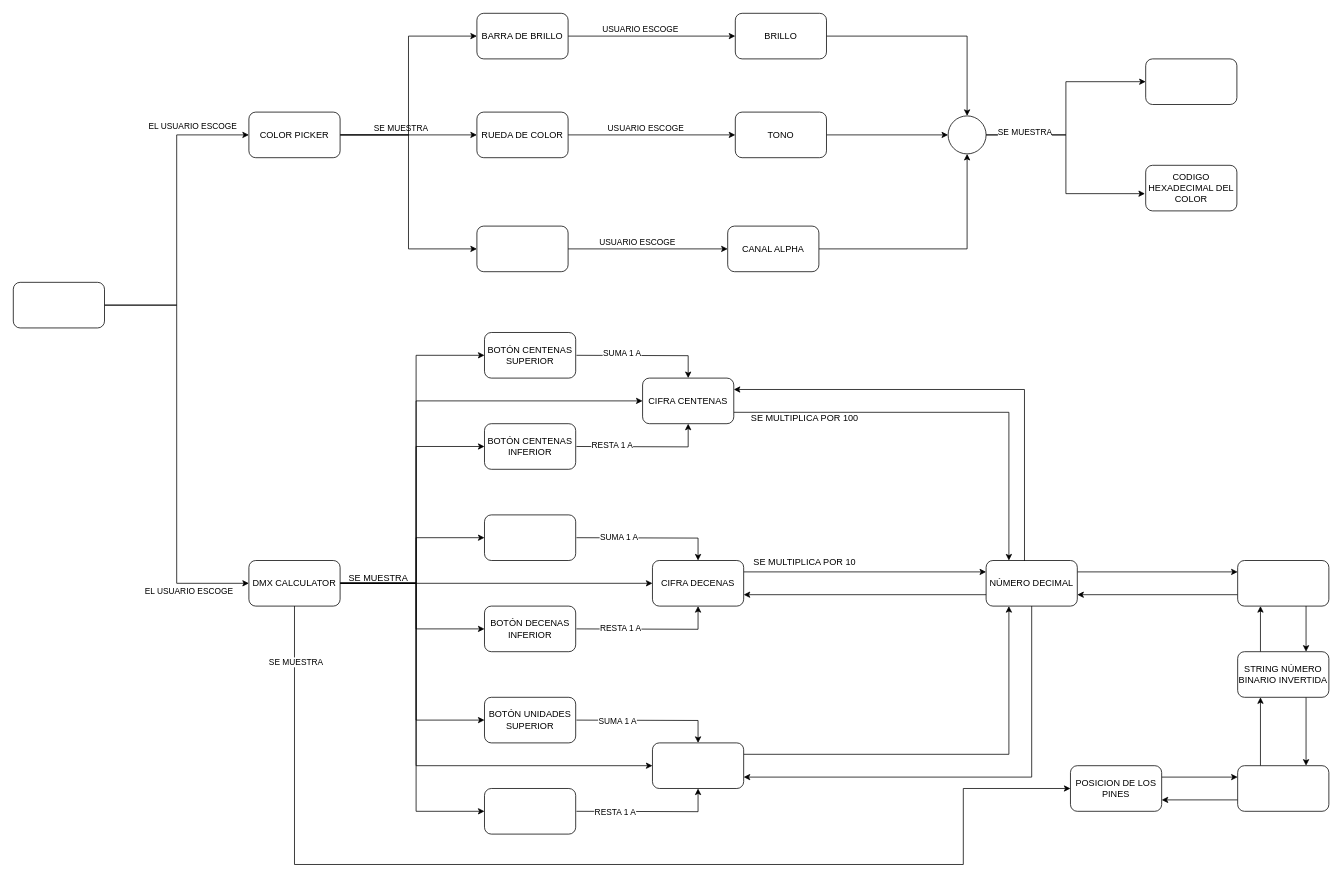
Image size: 1342x884. Some labels were removed from this diagram. Each missing label, with the centre of its shape:
BARRA DE CANAL ALPHA: point 522,248
BOTÓN DECENAS SUPERIOR: point 530,537
BOTÓN UNIDADES INFERIOR: point 530,811
CIFRA UNIDADES: point 698,765
COLOR FINAL: point 1191,81
LISTA DE PINES: point 1283,788
MENÚ: point 58,305
STRING NUMERO BINARIO: point 1283,583
